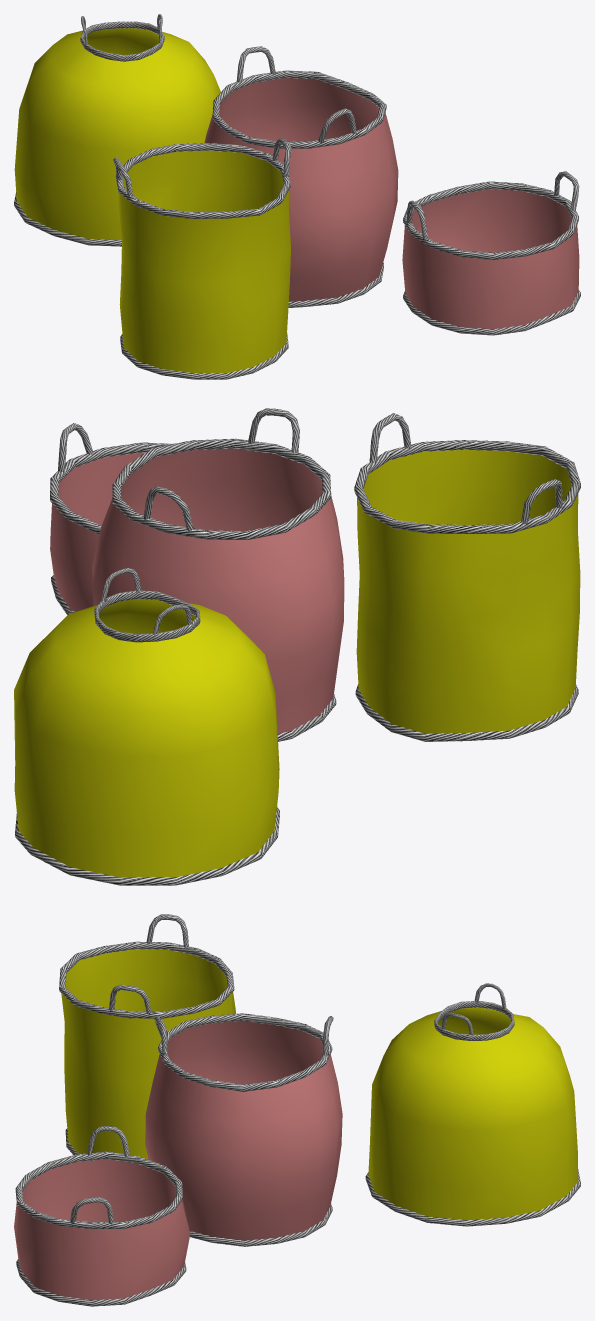
3 views of the same model, one above another, from view 1: azimuth 30°, elevation 25°; view 2: azimuth 150°, elevation 25°; view 3: azimuth 270°, elevation 25° (orthographic). The views are drawn at different scales.
Parts seen in each view (by area): view 1: Wicker_basket_04, Wicker_basket_02, Wicker_basket_01, Wicker_basket_03; view 2: Wicker_basket_02, Wicker_basket_04, Wicker_basket_01, Wicker_basket_03; view 3: Wicker_basket_02, Wicker_basket_01, Wicker_basket_04, Wicker_basket_03.
Boxes of the visible parts, x1,y1,x2,y2 form: Wicker_basket_04: [113, 138, 291, 379]; Wicker_basket_02: [14, 14, 220, 246]; Wicker_basket_01: [204, 46, 398, 307]; Wicker_basket_03: [402, 171, 580, 335]; Wicker_basket_02: [14, 568, 279, 885]; Wicker_basket_04: [354, 413, 580, 741]; Wicker_basket_01: [92, 408, 344, 741]; Wicker_basket_03: [50, 423, 171, 614]; Wicker_basket_02: [365, 983, 580, 1226]; Wicker_basket_01: [145, 1013, 342, 1246]; Wicker_basket_04: [59, 914, 235, 1159]; Wicker_basket_03: [14, 1126, 190, 1306].
Bounding box in the file's own units: 281 × 126 × 333.
